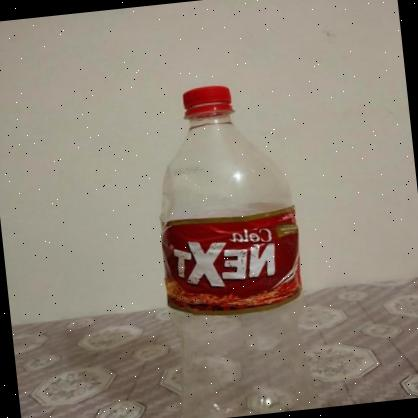bottle: (143, 83, 310, 418)
cap: (179, 84, 234, 116)
label: (160, 208, 302, 320)
